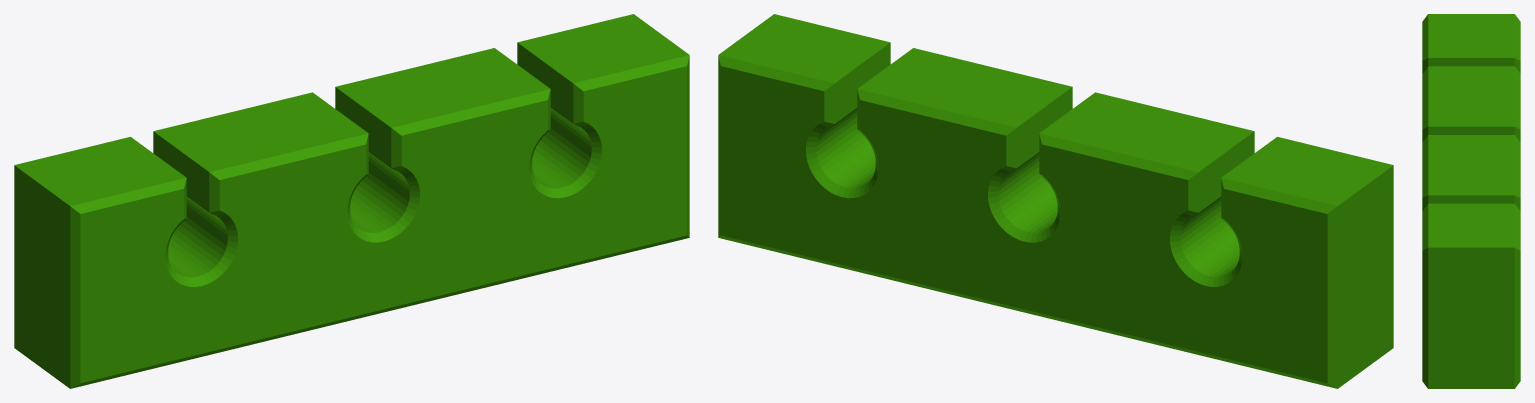
The model's file is organizador-cables.glb.
3 renders of one model, left to right at view 1: azimuth 30°, elevation 25°; view 2: azimuth 150°, elevation 25°; view 3: azimuth 270°, elevation 25°, orthographic. The views are drawn at different scales.
Parts seen in each view (by area): view 1: organizador-cables; view 2: organizador-cables; view 3: organizador-cables.
Boxes of the visible parts, x1,y1,x2,y2 form: organizador-cables: [14, 14, 689, 388]; organizador-cables: [718, 14, 1393, 388]; organizador-cables: [1422, 14, 1520, 388].
Bounding box in the file's own units: 0.1149 × 0.0324 × 0.0204.
